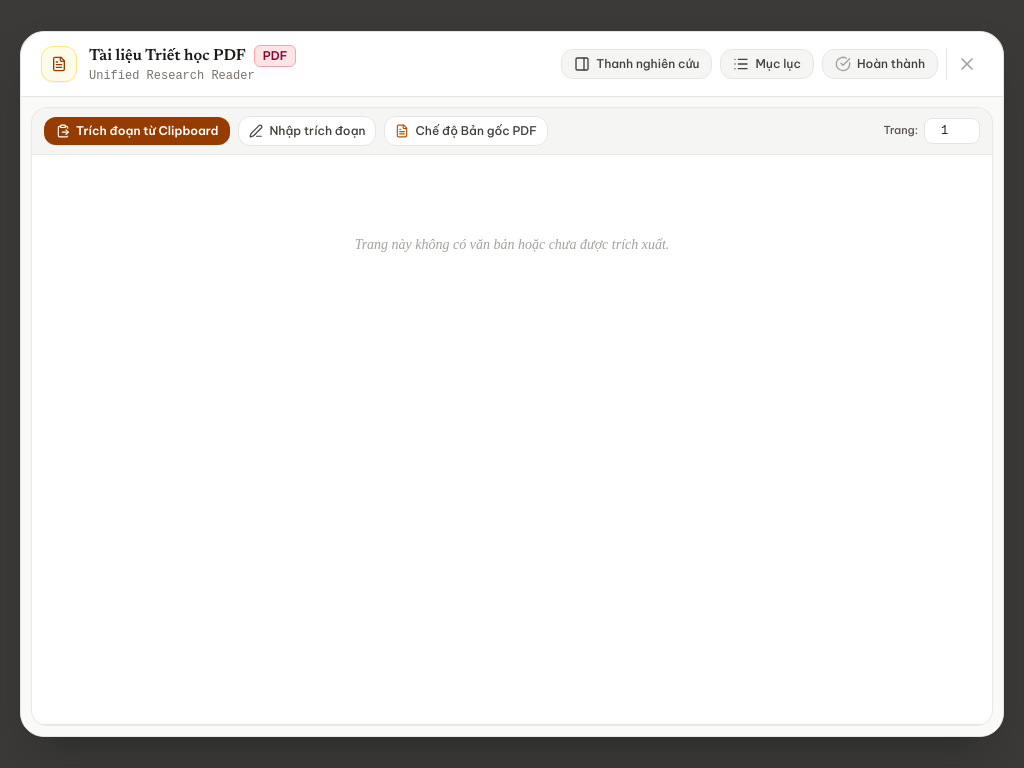
Phase R3: Reader Selection Toolbar Actions Persistence & Feedback (Red Stage) › 4. Citation action failure shows explicit error toast instead of misleading "Trích dẫn đã được tạo"
# Kích hoạt manual quote
Click the button with test id "pdf-manual-quote-btn" at point(308, 131), box [238,116,376,146]
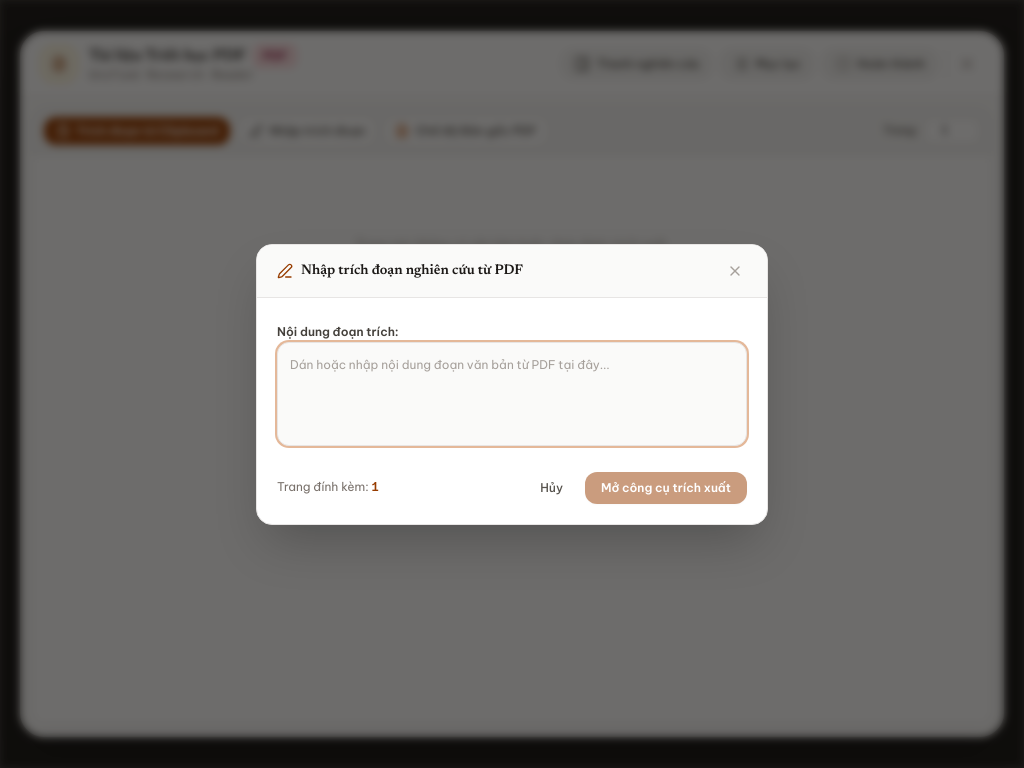
Type "Nội dung kiểm tra citation lỗi" into the text box with test id "pdf-manual-quote-textarea" at point(512, 394), box [277,342,747,446]
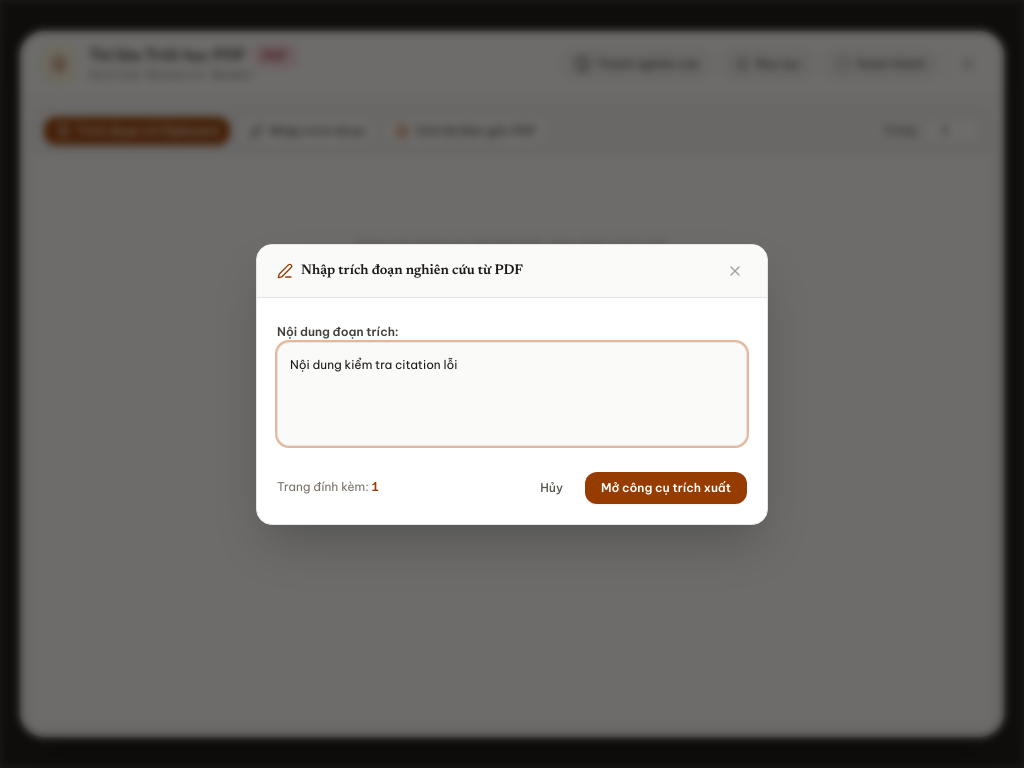
Click the button with test id "pdf-manual-quote-submit-btn" at point(666, 488), box [585,472,747,504]
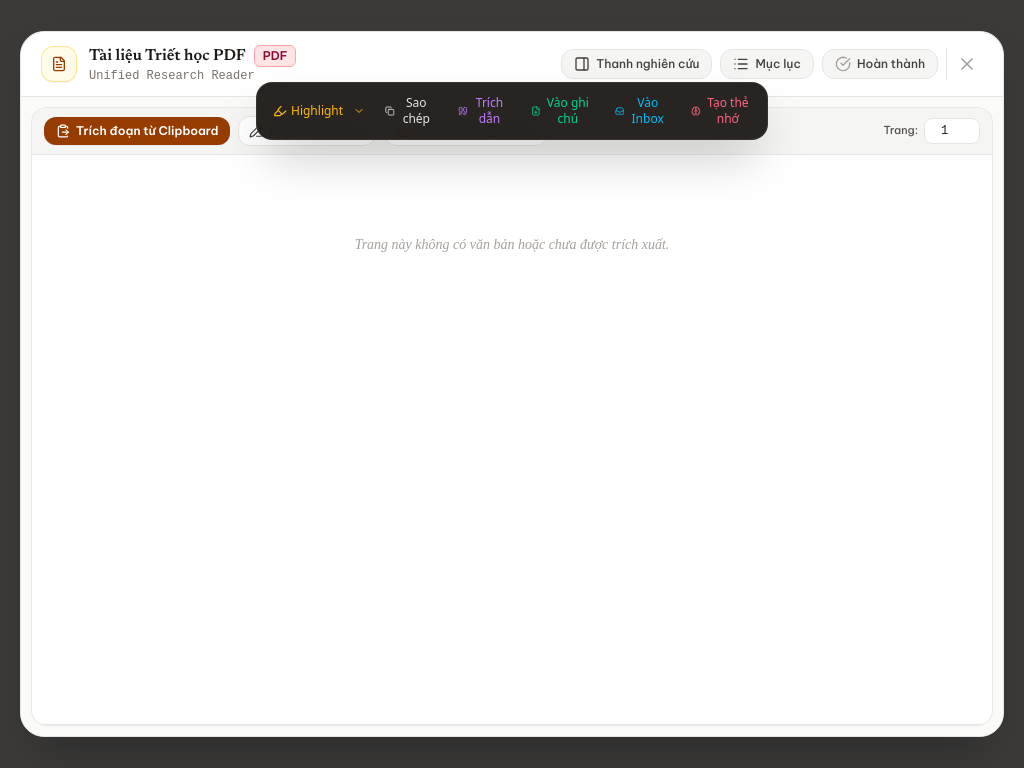
Click the button "Trích dẫn" at point(483, 111), box [448,89,517,133]
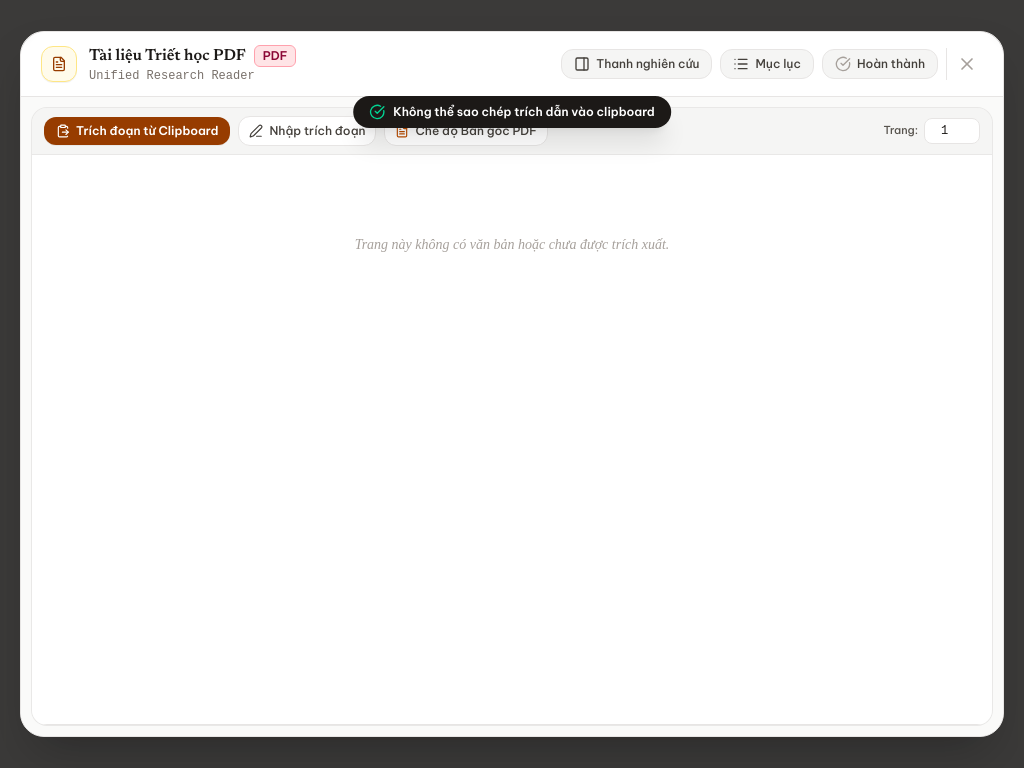
Now the text "Không thể sao chép trích dẫn vào clipboard" is shown, box [393,104,655,120]
